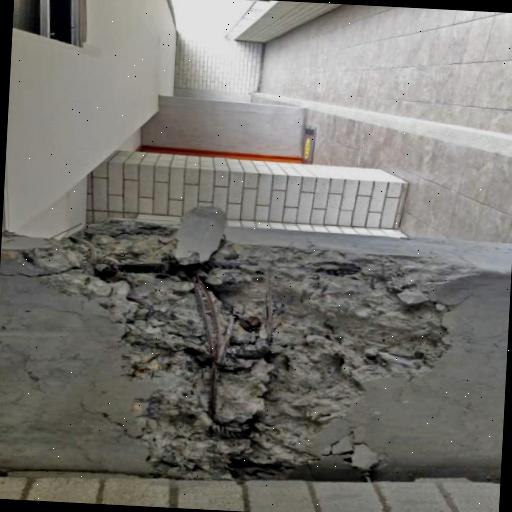spalling: (22, 235, 461, 474)
